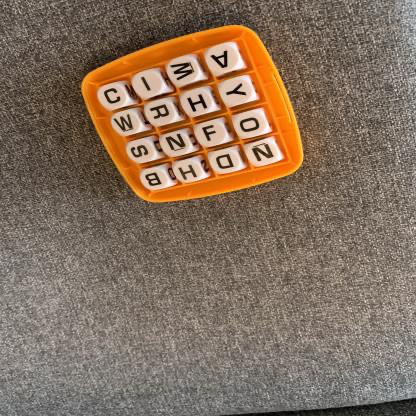a: (207, 46, 240, 71)
b: (142, 169, 170, 190)
c: (99, 84, 128, 108)
d: (210, 152, 241, 174)
f: (196, 122, 228, 146)
h: (182, 90, 215, 114), (174, 162, 204, 184)
i: (133, 73, 164, 98)
n: (248, 143, 280, 166), (161, 134, 192, 157)
o: (235, 113, 268, 137)
r: (145, 101, 177, 127)
s: (128, 142, 157, 162)
w: (168, 58, 201, 85), (112, 111, 142, 137)
y: (220, 79, 255, 106)
